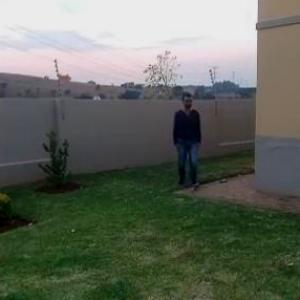follow: (168, 89, 203, 197)
